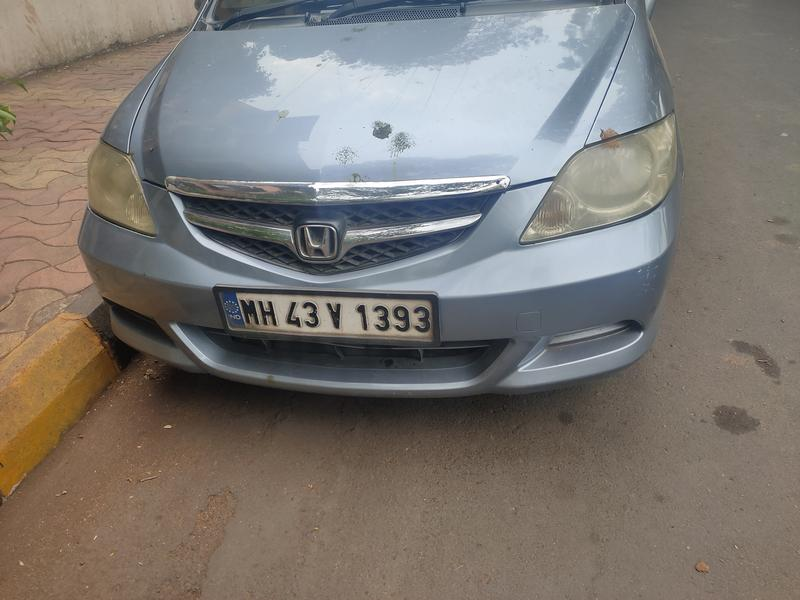license_plate: (209, 285, 450, 345)
